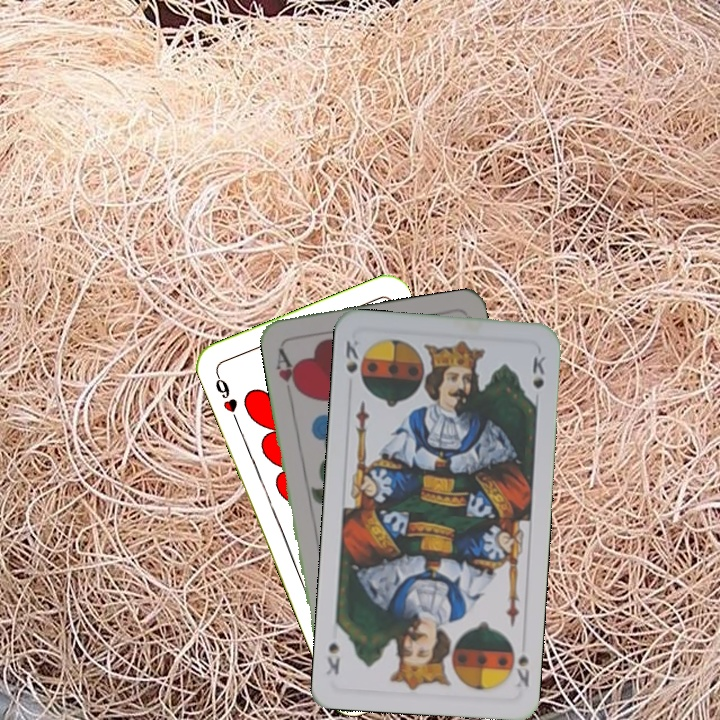H9: (211, 368, 241, 425)
HA: (272, 344, 303, 401)
SK: (505, 638, 532, 690), (341, 334, 362, 376)
